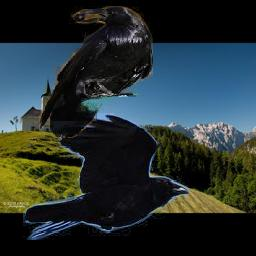Crow: (23, 114, 189, 241), (39, 6, 153, 138)
